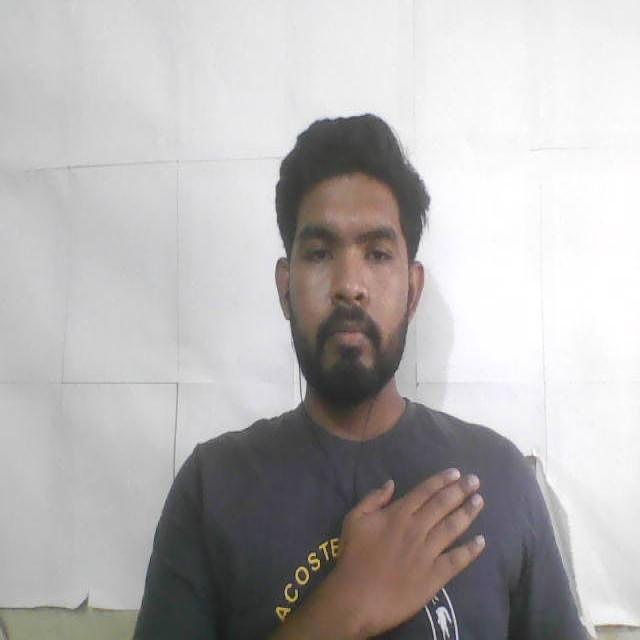Please: (268, 457, 494, 640)
